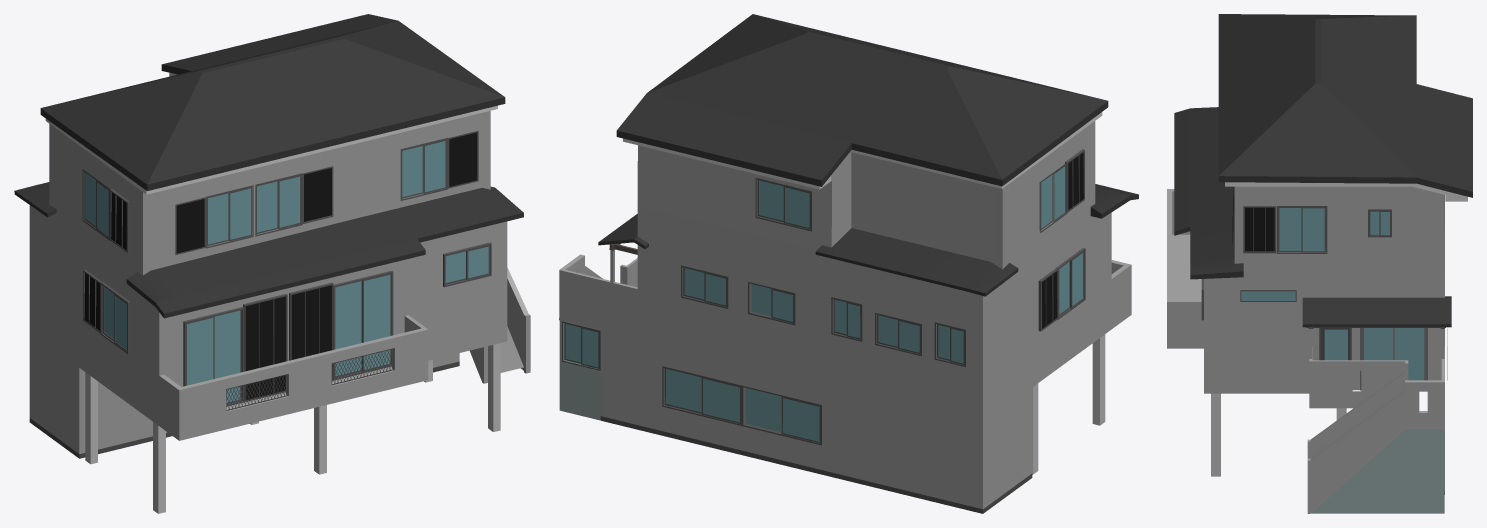
The model's file is house_10_middle.fbx.
The picture shows the model from 3 angles, left to right: view 1: azimuth 30°, elevation 25°; view 2: azimuth 150°, elevation 25°; view 3: azimuth 270°, elevation 25°; orthographic projection. The views are drawn at different scales.
Visible parts, largest first — view 1: pCube181; view 2: pCube181; view 3: pCube181.
Boxes of the visible parts, x1,y1,x2,y2 form: pCube181: (14, 14, 530, 513); pCube181: (559, 14, 1138, 513); pCube181: (1167, 14, 1472, 513).
Size of the model in its own units: 1260 by 1030 by 820.
